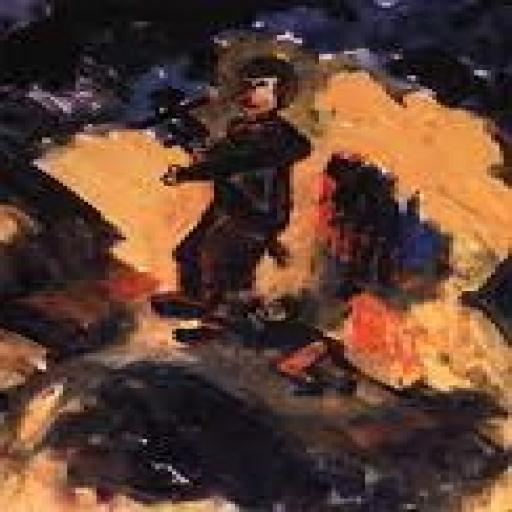person: (131, 51, 330, 331)
